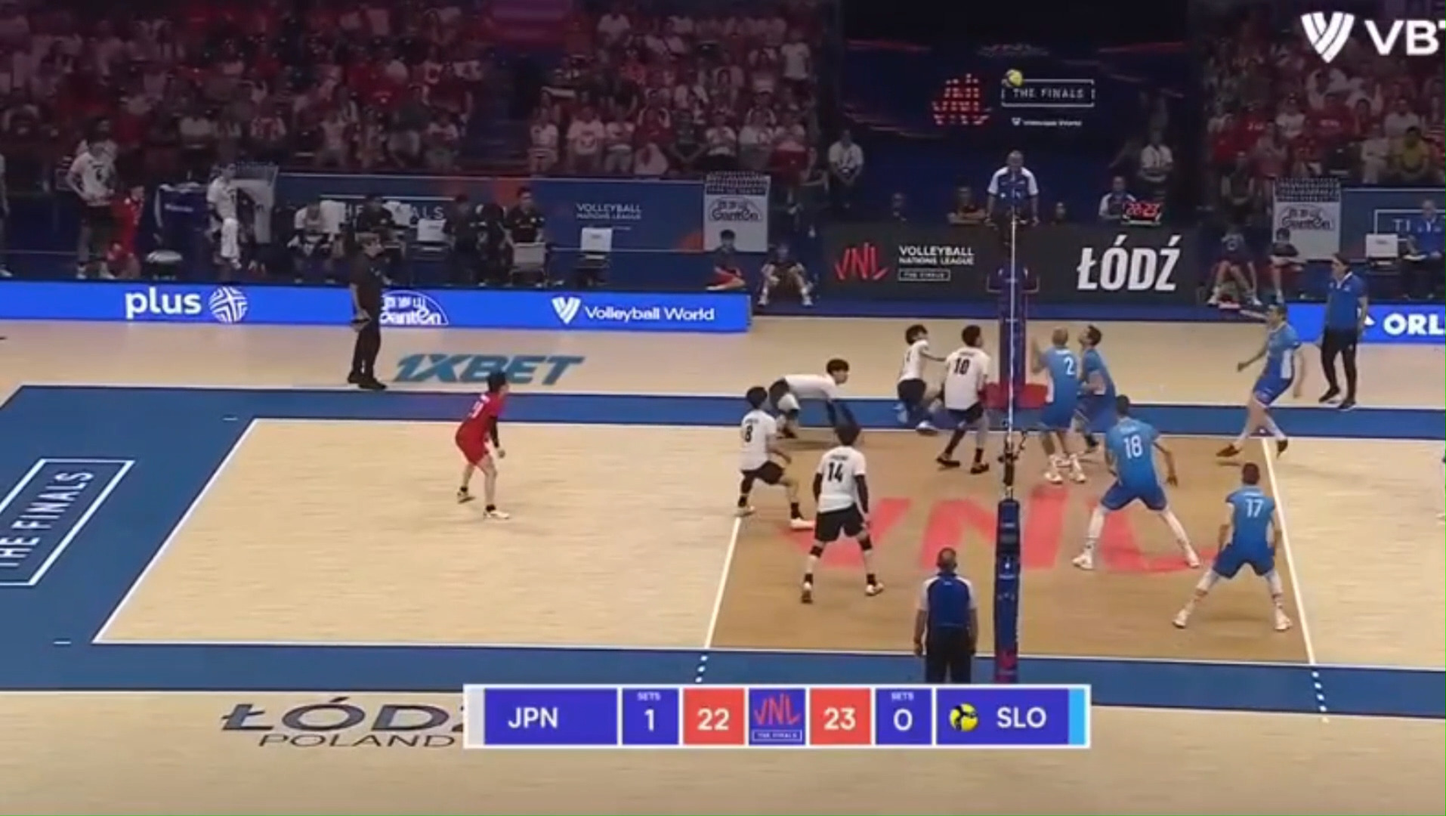ball: (1001, 68, 1027, 88)
player: (1073, 394, 1199, 569), (1173, 462, 1291, 631), (1217, 303, 1302, 457), (1031, 327, 1086, 484), (1077, 325, 1116, 450)
player 1: (801, 425, 883, 603), (737, 386, 811, 528), (936, 324, 991, 474), (454, 372, 510, 518), (765, 358, 853, 437), (896, 323, 943, 432)
referee: (913, 548, 978, 683), (1318, 253, 1368, 410), (986, 150, 1040, 295), (348, 227, 389, 390)
